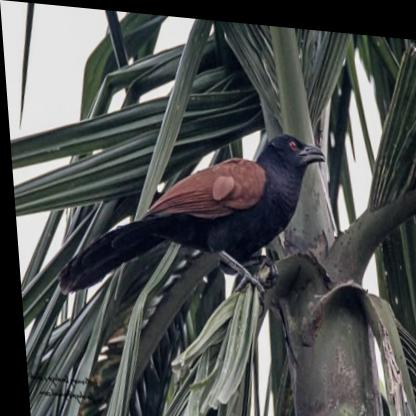Burung: (43, 110, 334, 317)
